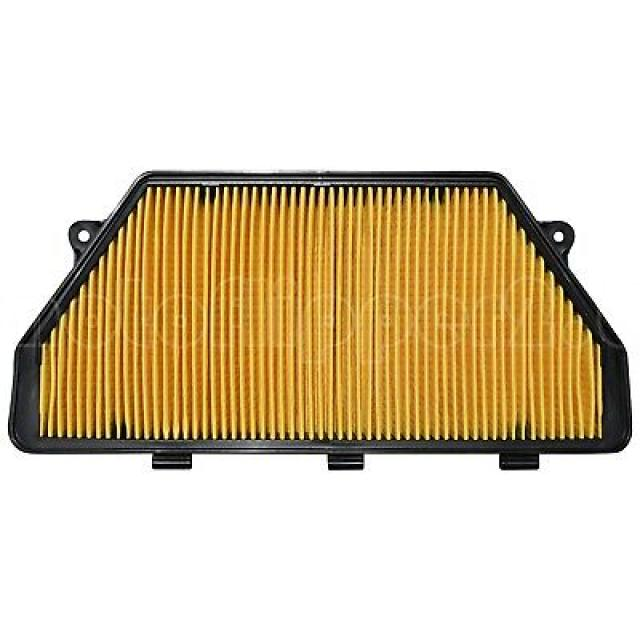air_filter: (0, 166, 638, 480)
